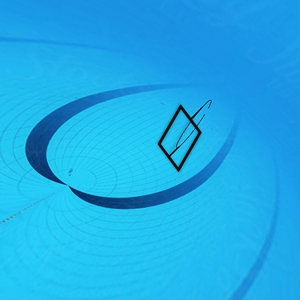circle: (158, 97, 215, 175)
